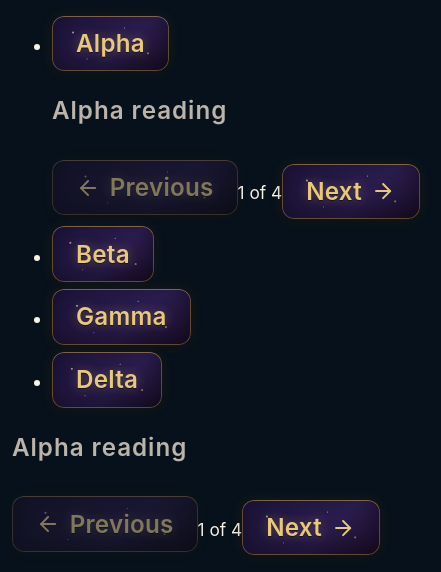
Test case: ReadingRoom › steps with Previous and Next and stops at the ends
The image size is (441, 572).
Expected: the 1st button "Previous" is disabled, left=52, top=160, right=238, bottom=215
Expected: the text "1 of 4" is shown 2 times, left=238, top=183, right=282, bottom=204; left=198, top=519, right=242, bottom=540
Click the 1st button "Next" at (351, 191), box left=282, top=164, right=420, bottom=219
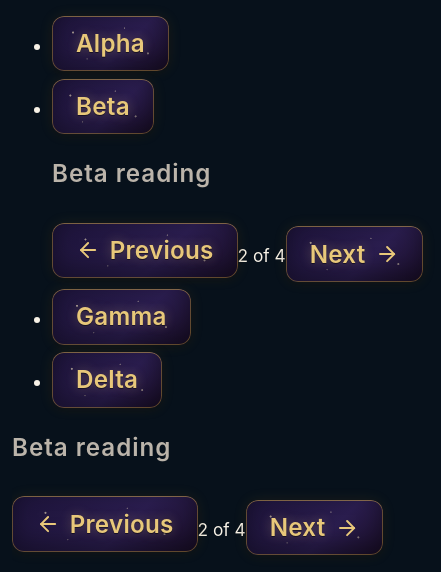
Expected: the text "2 of 4" is shown 2 times, left=238, top=246, right=286, bottom=267; left=198, top=519, right=246, bottom=540
Now the button "Beta" is marked as current, box left=52, top=79, right=154, bottom=134
Click the button "Delta" at (107, 380), box left=52, top=352, right=162, bottom=408
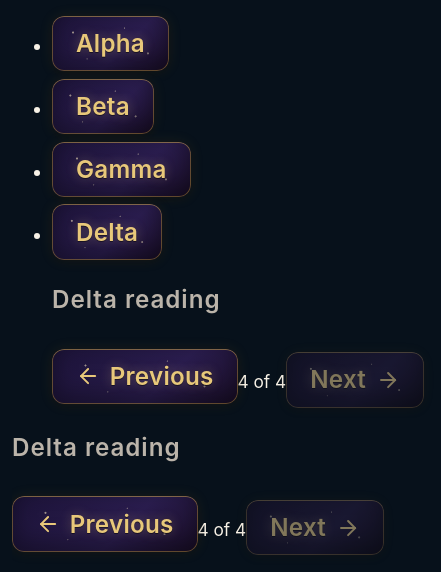
Now the 1st button "Next" is disabled, box left=286, top=352, right=424, bottom=408
Now the 2nd button "Next" is disabled, box left=246, top=500, right=384, bottom=555
